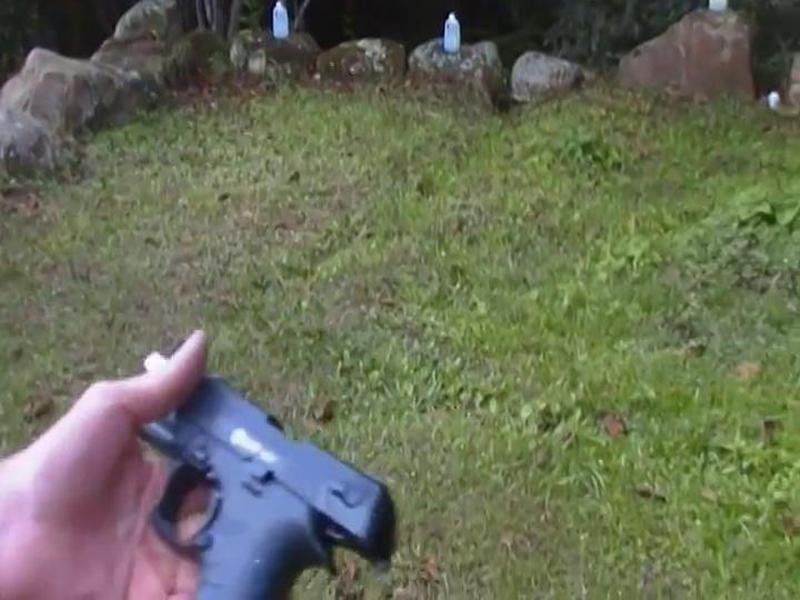Pistola: (96, 356, 399, 600)
